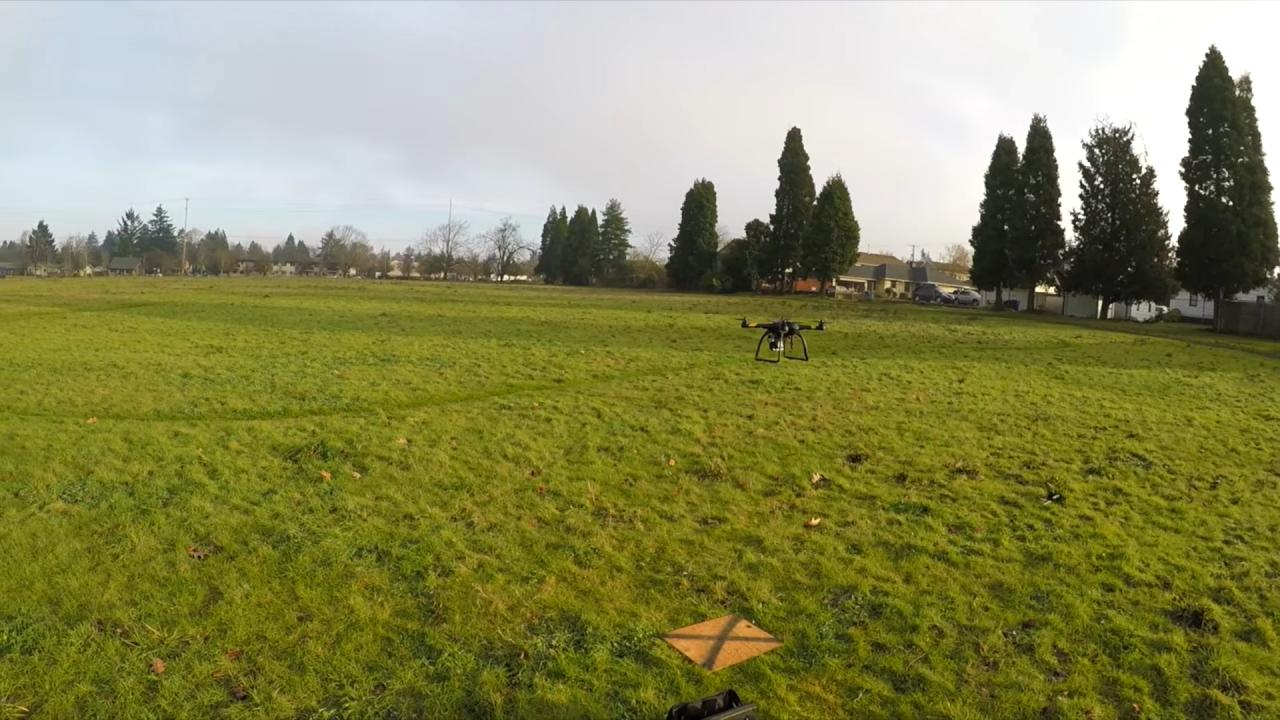Drone: (725, 305, 839, 375)
